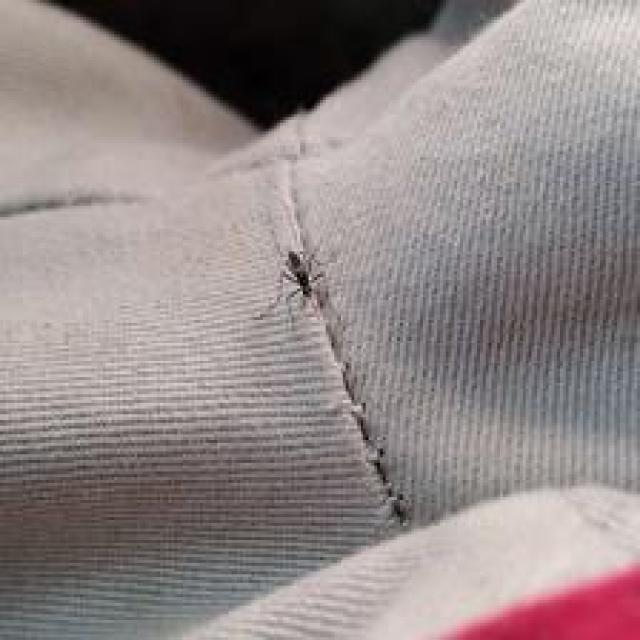Aedes albopictus: (253, 247, 330, 324)
